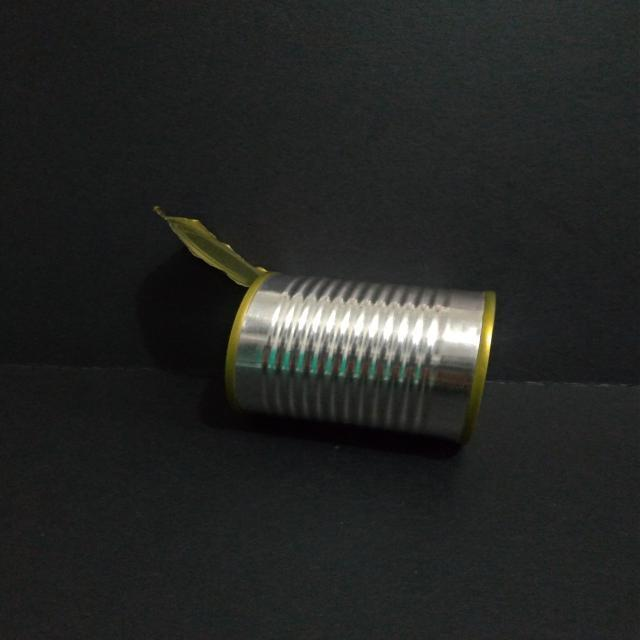metal: (150, 203, 502, 452)
